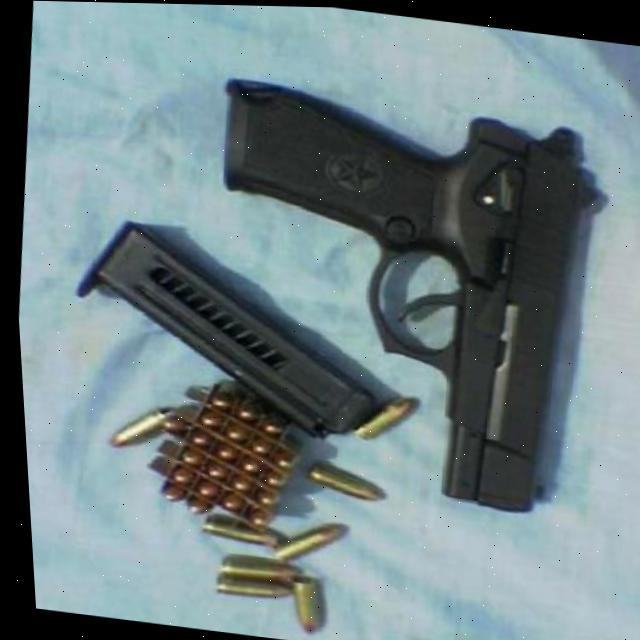gun: (181, 76, 619, 520)
